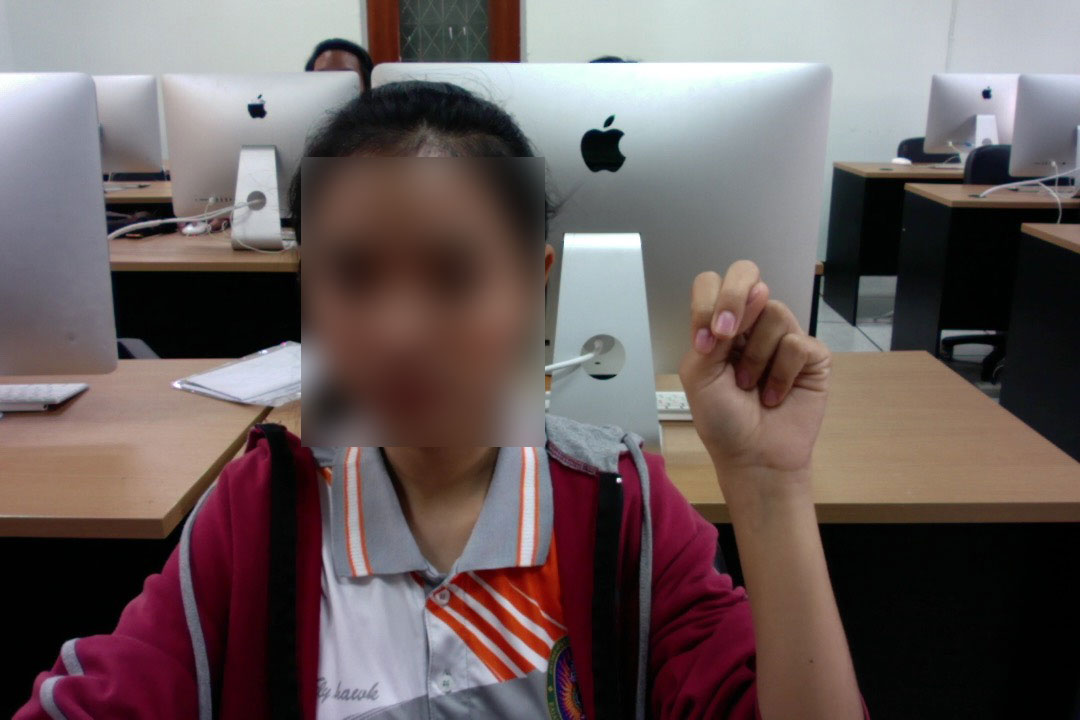nor: (667, 251, 842, 502)
